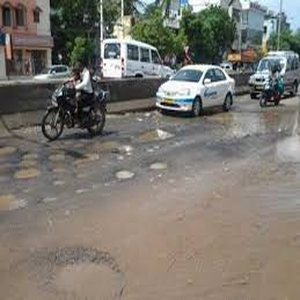pothole: (136, 130, 177, 144), (100, 140, 132, 154), (113, 168, 137, 181), (15, 166, 39, 178), (147, 161, 170, 169)
